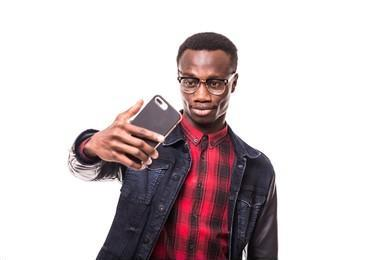face: (179, 60, 232, 122)
